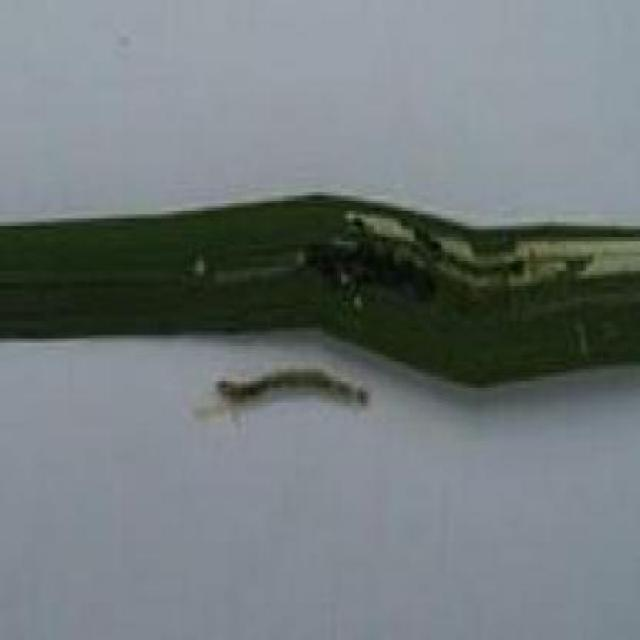leaf-folder: (197, 343, 385, 425)
